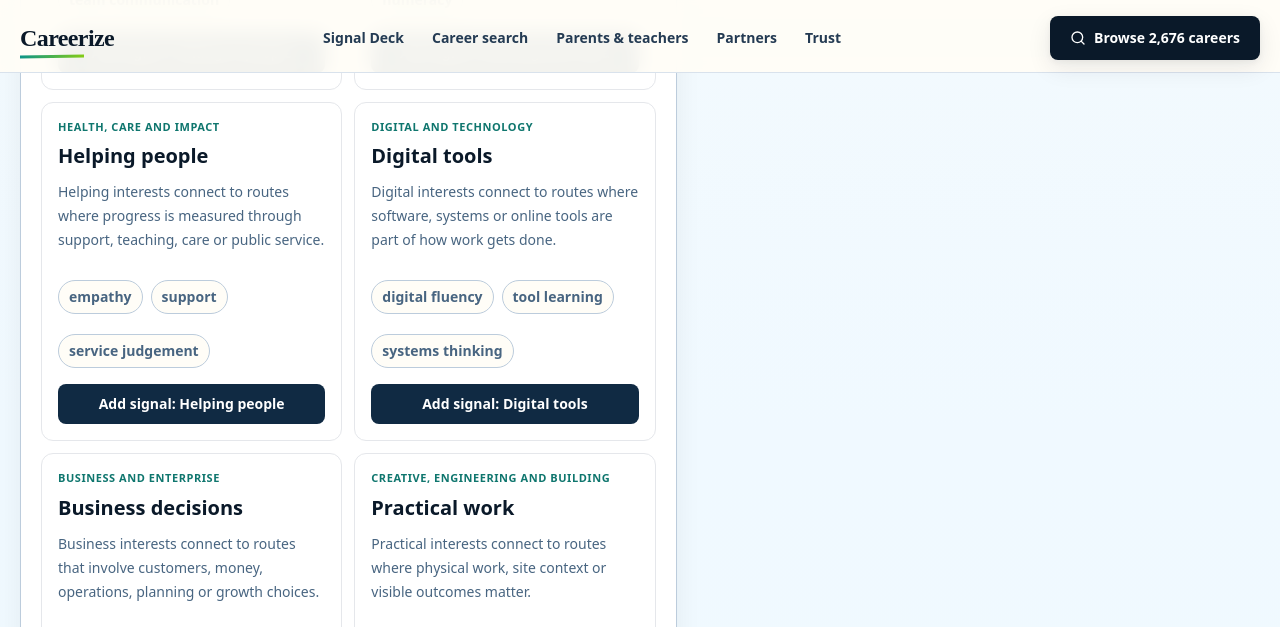
Test: Careerize Signal Deck Studio and routed pathway pages › selects and deselects Signal Deck interests and explains path suggestions
(page scrolled)
Click the button "Add signal: Digital tools" at [505, 404], box x1=371 y1=384 x2=639 y2=424
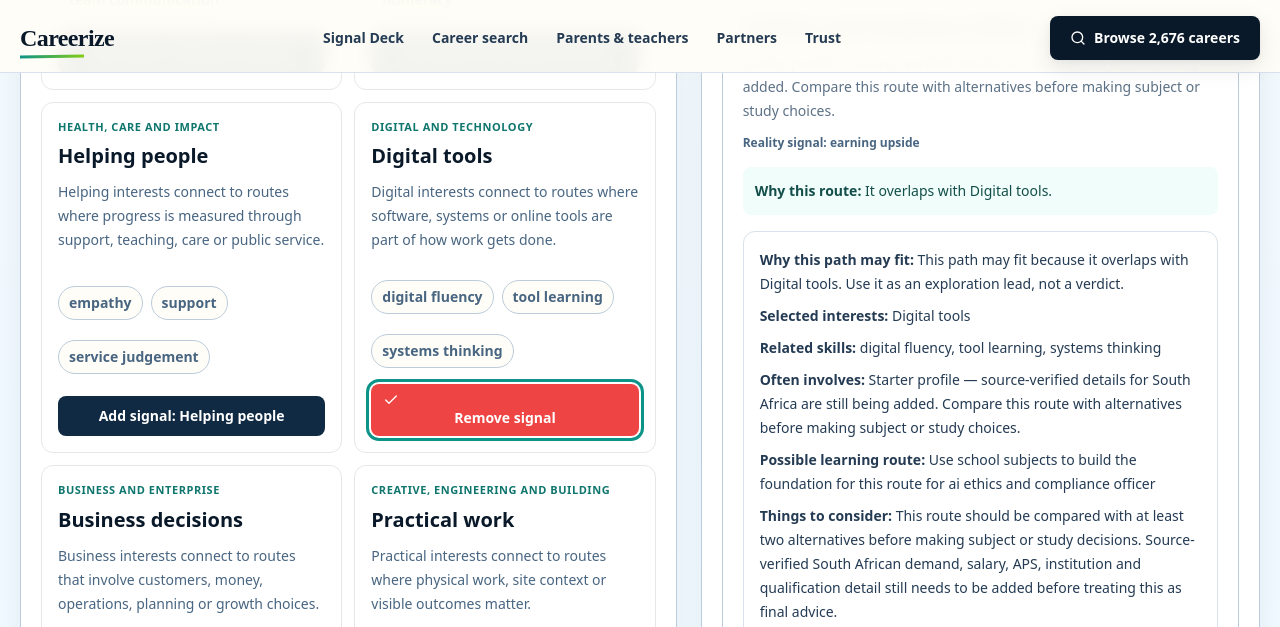
Click the button "Remove signal" at [505, 410], box x1=371 y1=384 x2=639 y2=436
(page scrolled)
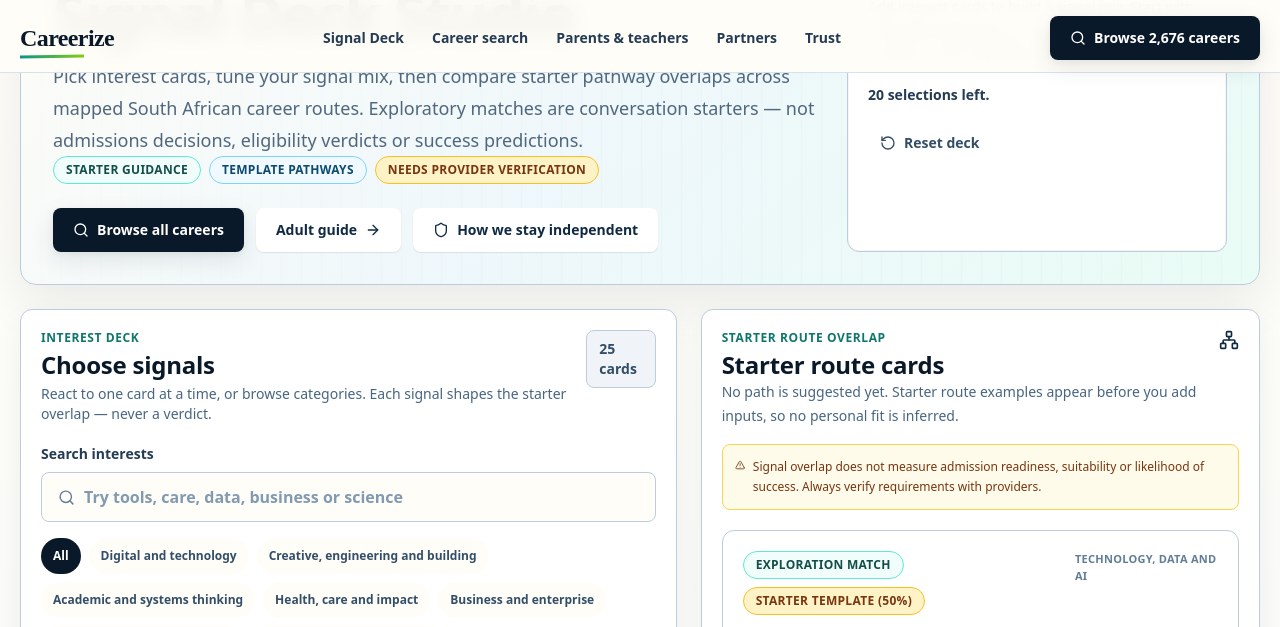
Now the text "Starter route examples appear before you add inputs" is shown, box x1=722 y1=382 x2=1196 y2=425
